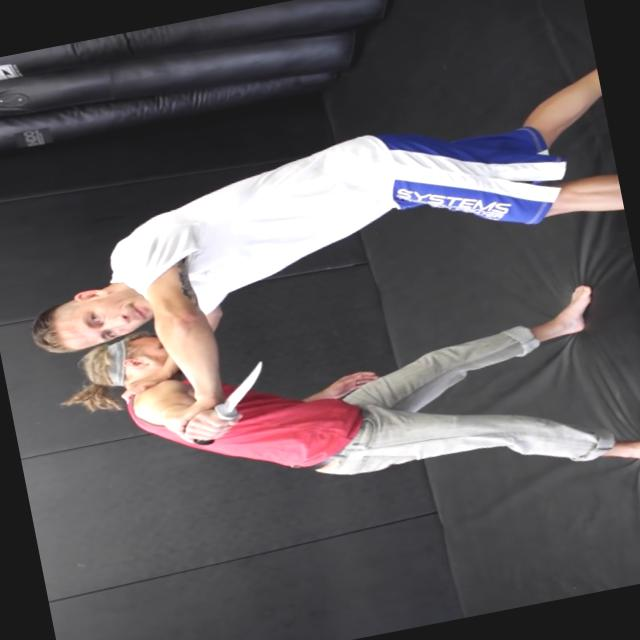knife: (175, 354, 285, 451)
